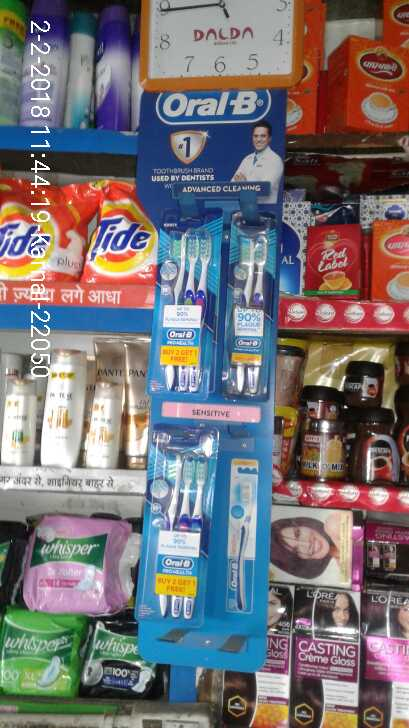beauty: (36, 343, 83, 475), (82, 376, 119, 474)
home: (1, 178, 91, 274), (75, 187, 160, 281)
pharmacy: (19, 508, 135, 627), (146, 443, 215, 628), (156, 227, 214, 400), (2, 608, 83, 704), (230, 226, 273, 387), (83, 634, 149, 700)
